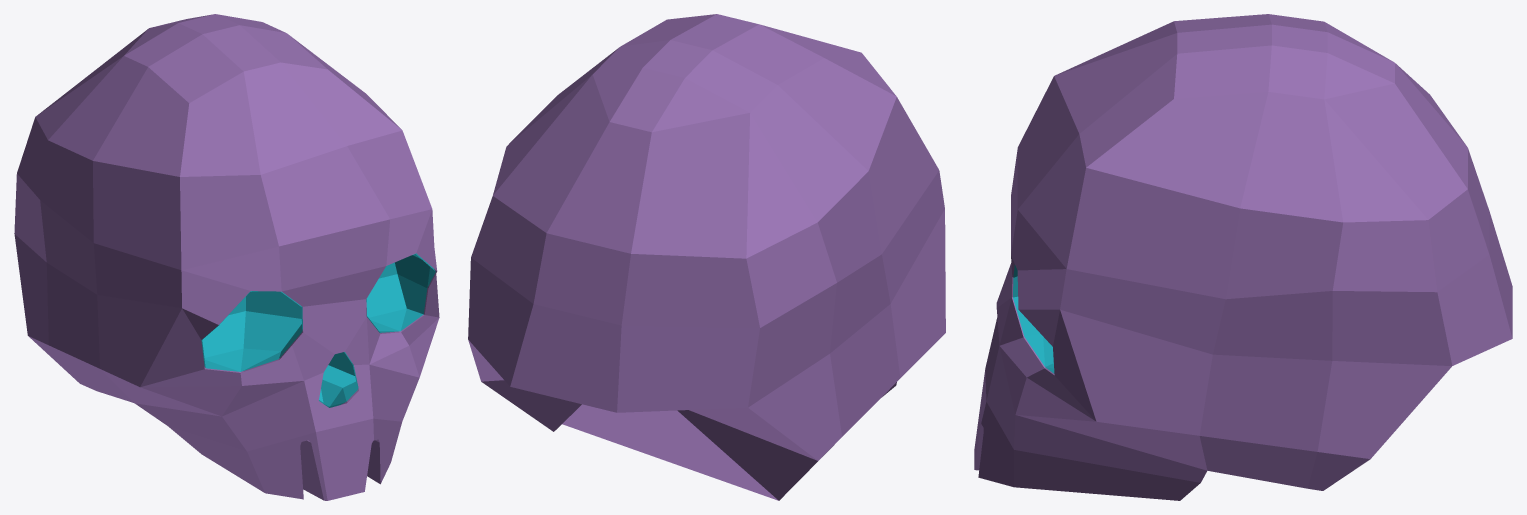
The model's file is SM_Skull.fbx.
The picture shows the model from 3 angles, left to right: view 1: azimuth 30°, elevation 25°; view 2: azimuth 150°, elevation 25°; view 3: azimuth 270°, elevation 25°; orthographic projection. The views are drawn at different scales.
Parts seen in each view (by area): view 1: Skull; view 2: Skull; view 3: Skull.
Boxes of the visible parts, box(x1,y1,x2,y2) form: Skull: box(14, 14, 439, 500); Skull: box(468, 14, 945, 500); Skull: box(974, 14, 1512, 500).
Size of the model in its own units: 21.97 by 27.59 by 29.78.
